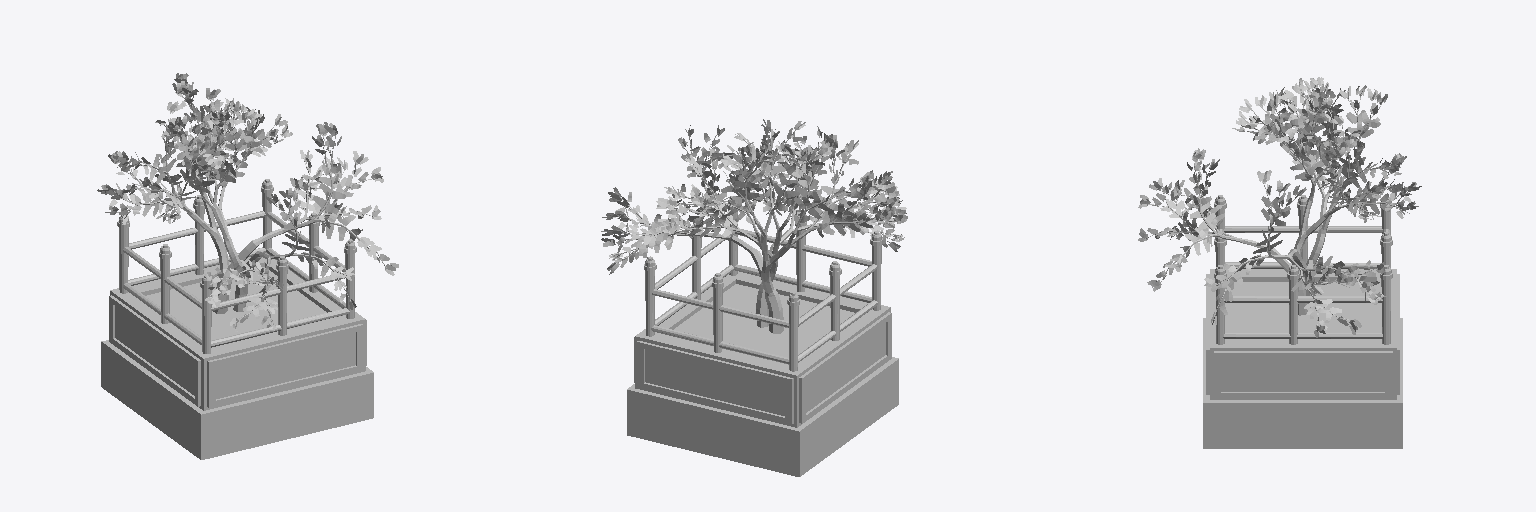
Rendered from decimatedplant0.7.obj.
3 views of the same model, side by side, from view 1: azimuth 30°, elevation 25°; view 2: azimuth 150°, elevation 25°; view 3: azimuth 270°, elevation 25° (orthographic).
Visible parts, largest first — view 1: objPlant.001; view 2: objPlant.001; view 3: objPlant.001.
Part boxes in pixels (bbox=[...]): objPlant.001: bbox=[97, 73, 398, 459]; objPlant.001: bbox=[601, 119, 907, 476]; objPlant.001: bbox=[1138, 77, 1421, 448].
Size of the model in its own units: 0.5649 by 0.5844 by 0.4797.